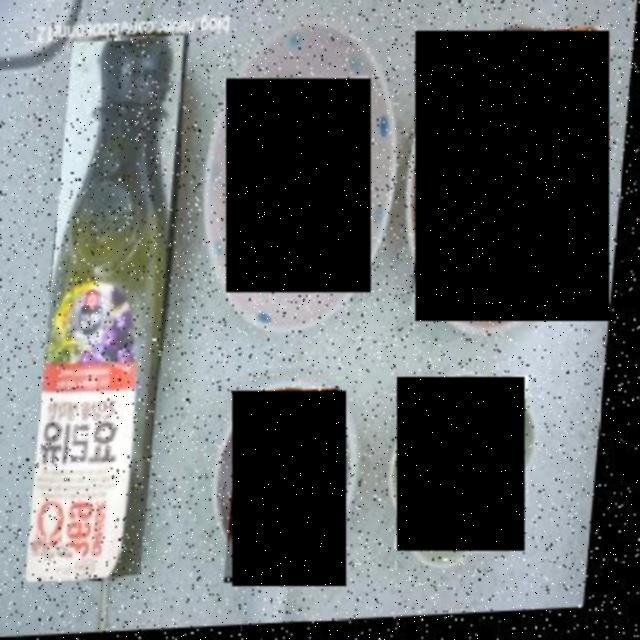Egg: (233, 391, 347, 586)
Onion_Leaves: (398, 378, 524, 552)
Pork: (226, 79, 371, 292)
kimchi: (415, 31, 610, 320)
